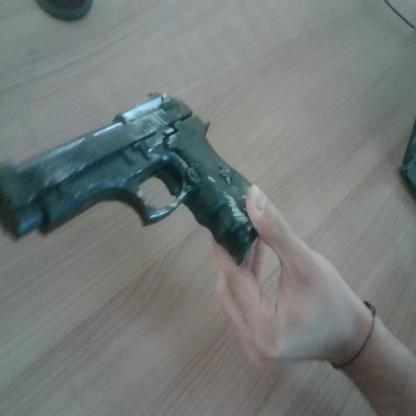handgun: (0, 79, 285, 293)
